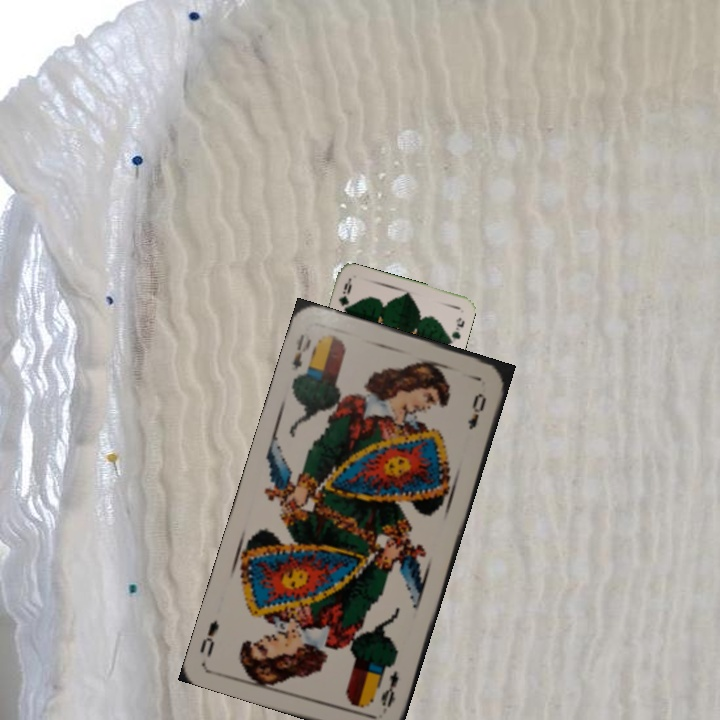EO: (376, 666, 402, 717), (287, 330, 314, 373)
G9: (334, 277, 354, 309)
